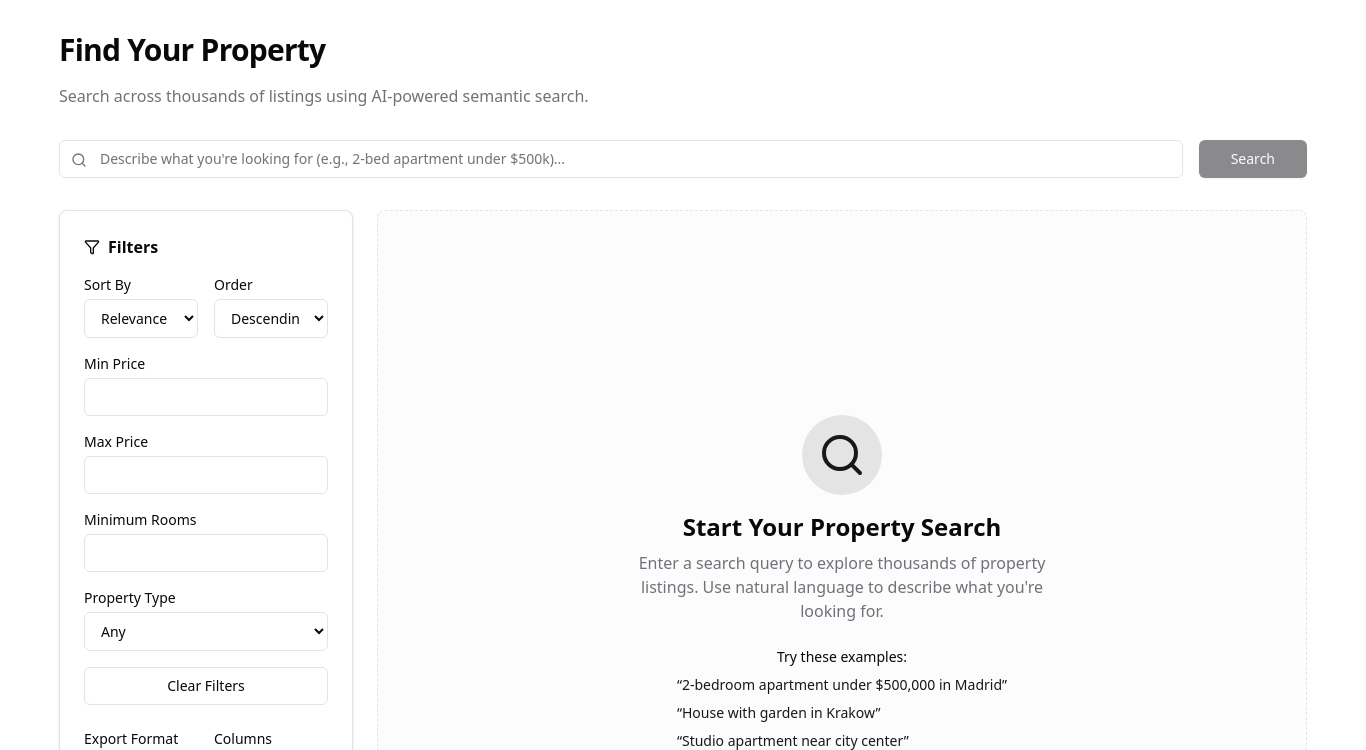
Test: SearchPage › validates min and max price before searching
Replace the text in the field named "Search query" with "Test" at (621, 159), box [59,140,1183,178]
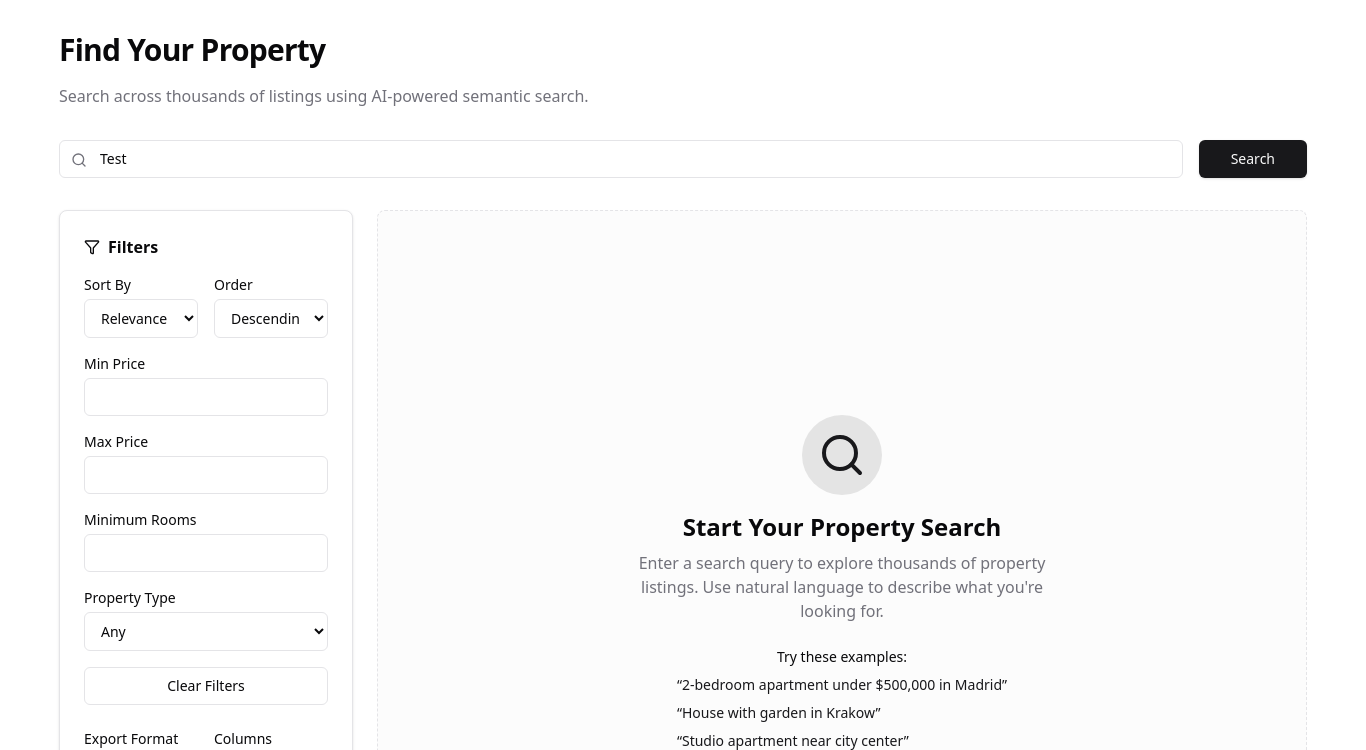
Type "300" into the number field named "Minimum price" at (206, 397), box [84,378,328,416]
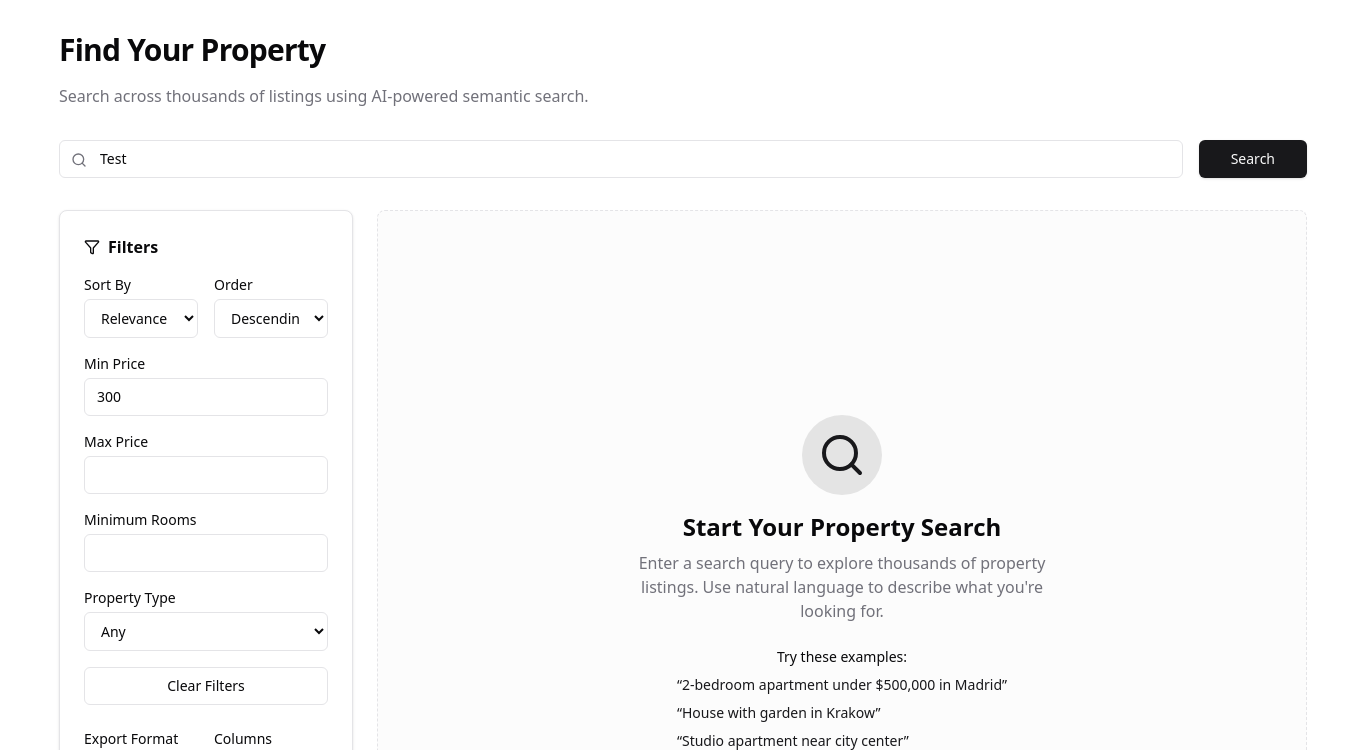
Type "200" into the number field named "Maximum price" at (206, 475), box [84,456,328,494]
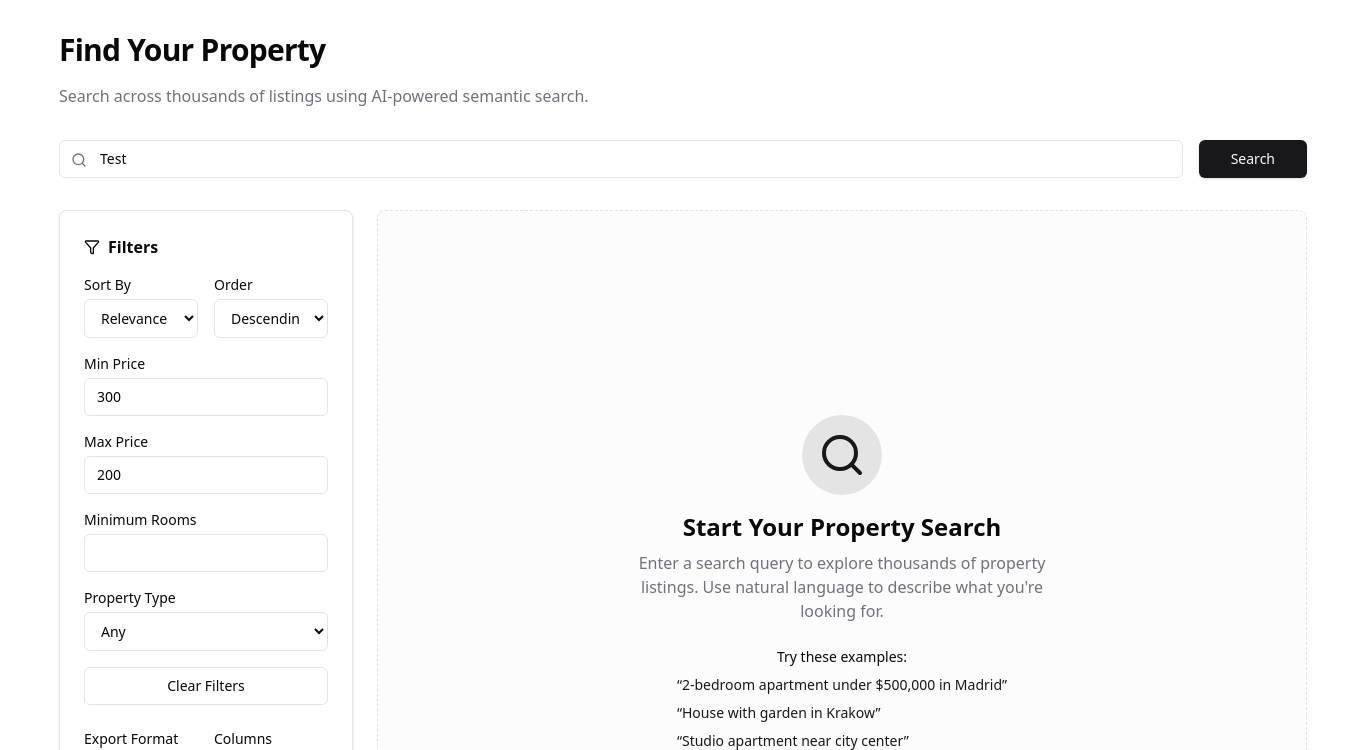
Click the button "Search" at (1253, 159), box [1199,140,1307,178]
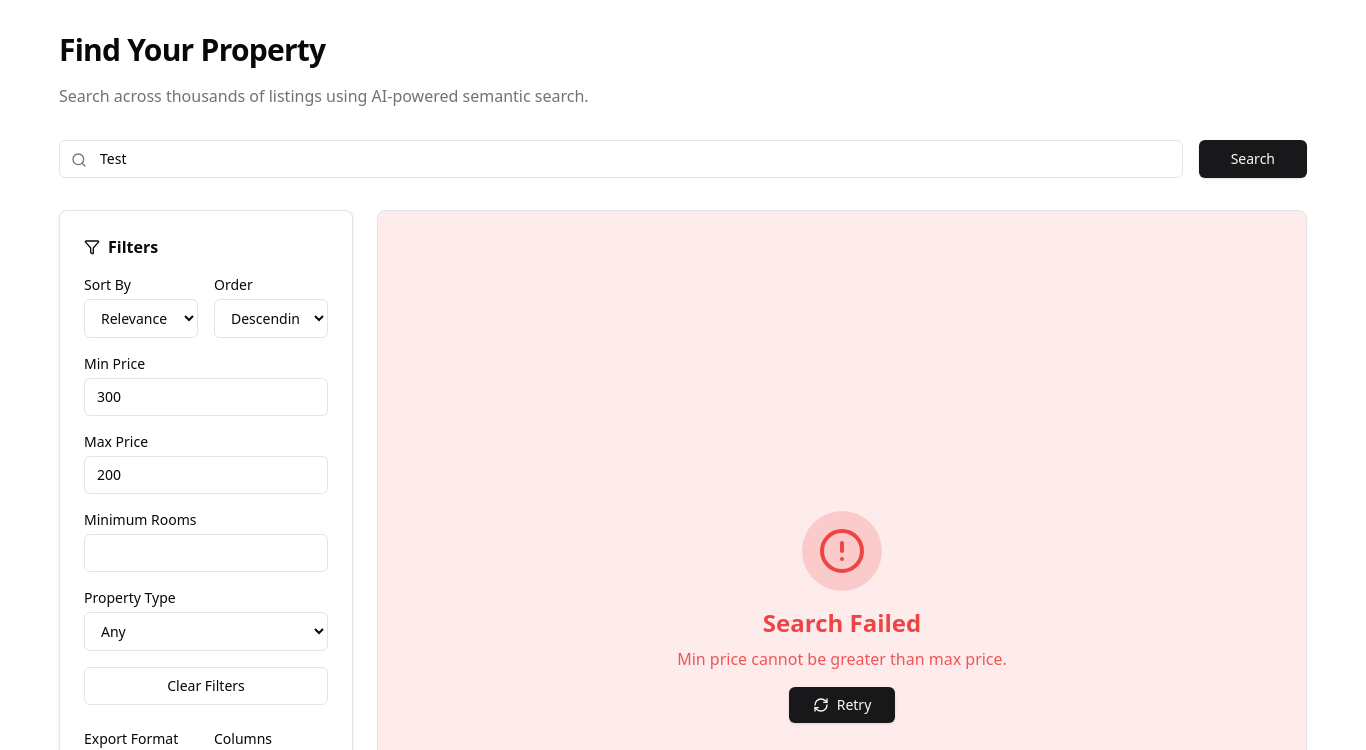
Now the text "Min price cannot be greater than max price." is shown, box [677,646,1007,670]
